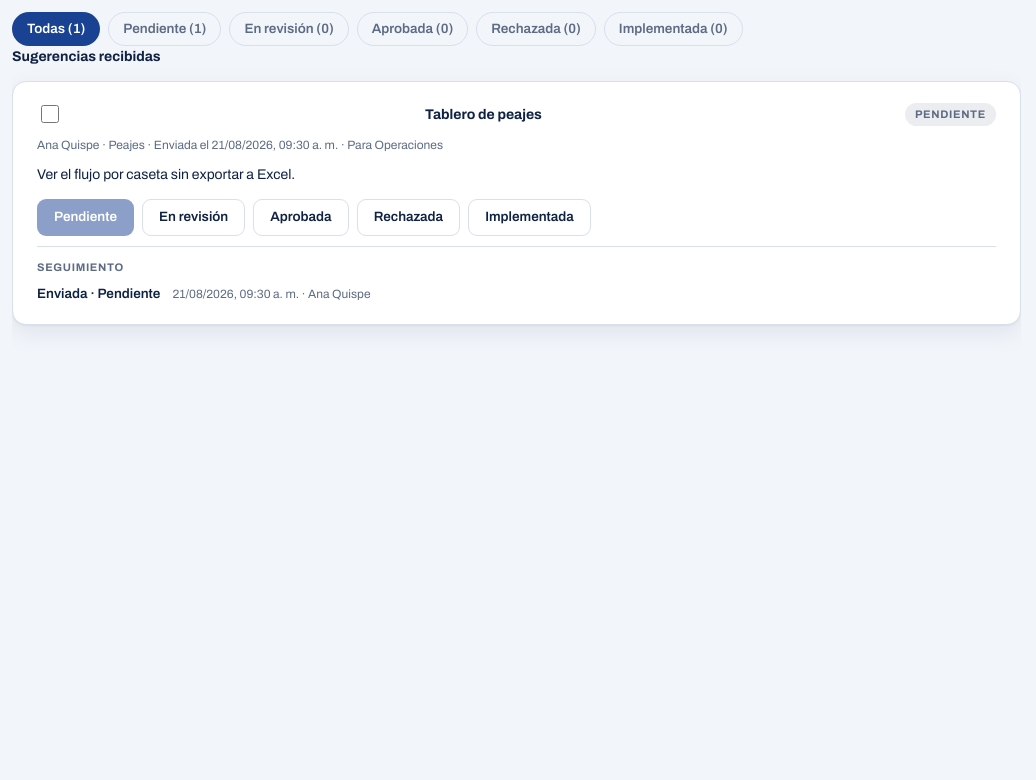
Test: los botones del embudo › confirma con un toast que nombra el estado aplicado
Step 1. Click the button "En revisión" → [194, 218], box [142,199,245,236]
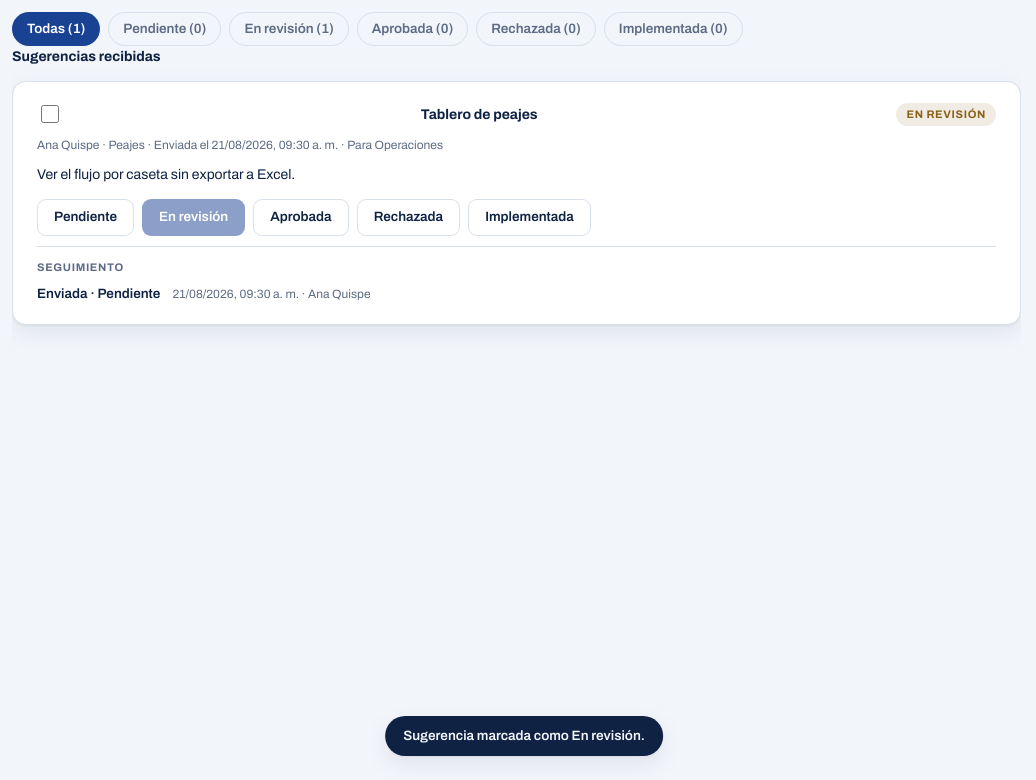
Now the text "Sugerencia marcada como En revisión." is shown, box [385,716,663,756]
